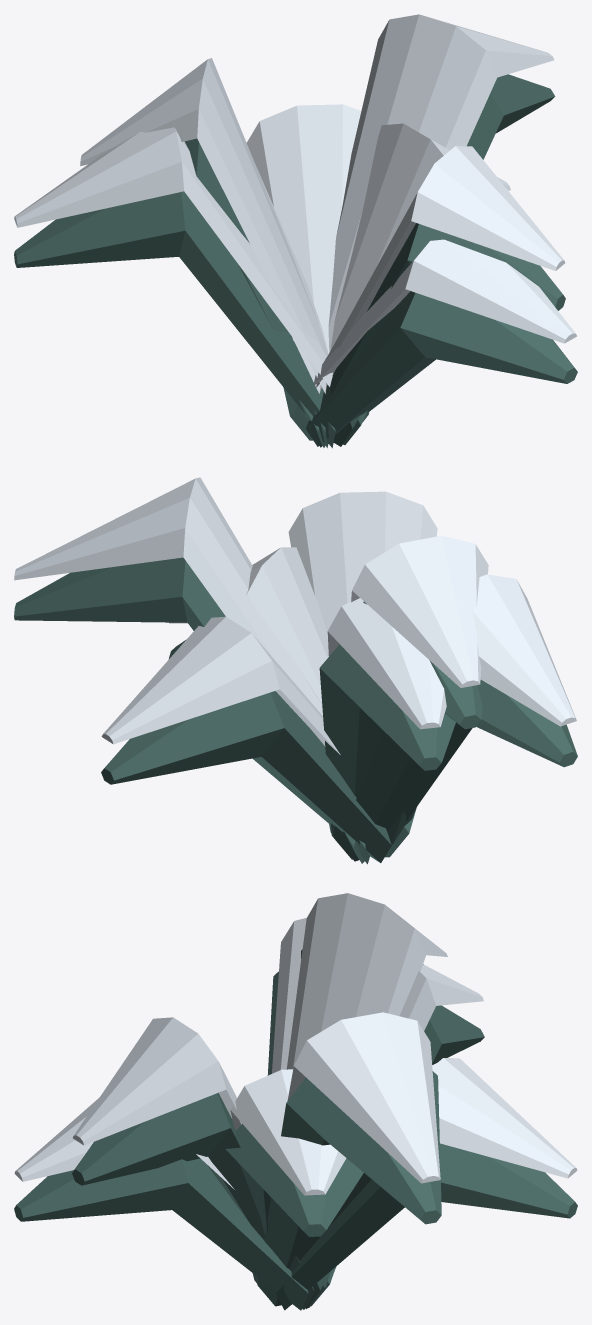
File: Shrub1.fbx
3 views of the same model, one above another, from view 1: azimuth 30°, elevation 25°; view 2: azimuth 150°, elevation 25°; view 3: azimuth 270°, elevation 25° (orthographic).
Parts seen in each view (by area): view 1: Shrub_LOD0; view 2: Shrub_LOD0; view 3: Shrub_LOD0.
Part boxes in pixels (left/top/right/bottom): Shrub_LOD0: left=14, top=14, right=577, bottom=448; Shrub_LOD0: left=14, top=477, right=577, bottom=864; Shrub_LOD0: left=14, top=893, right=577, bottom=1310.
Size of what is drawn, in the model's own units: 1.6 by 1.02 by 1.44.
